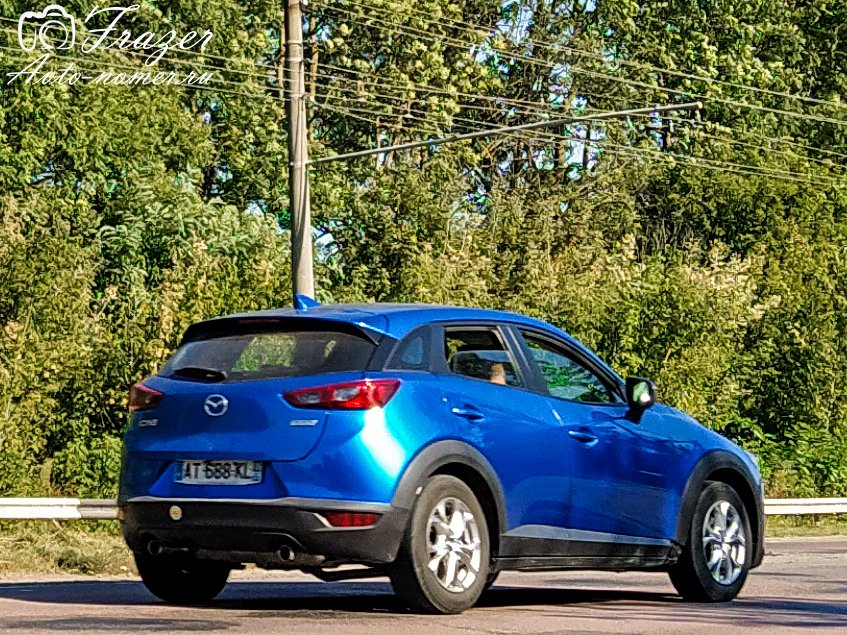licence plate: (168, 458, 265, 487)
